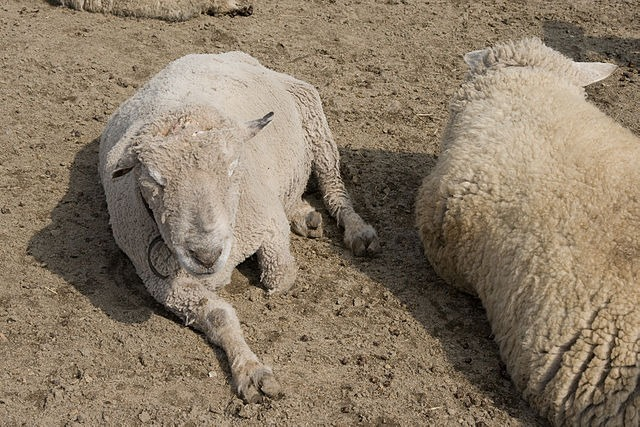resting: (95, 52, 379, 406)
